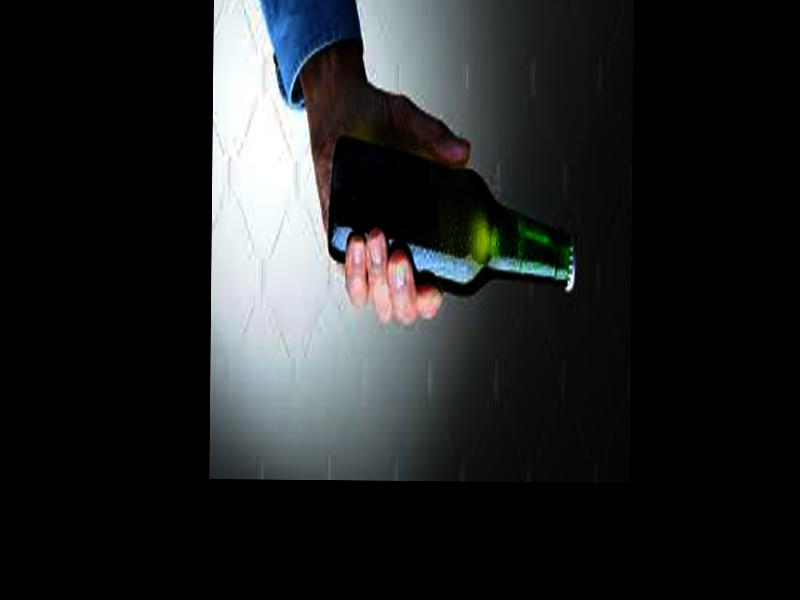Beer: (329, 133, 574, 304)
